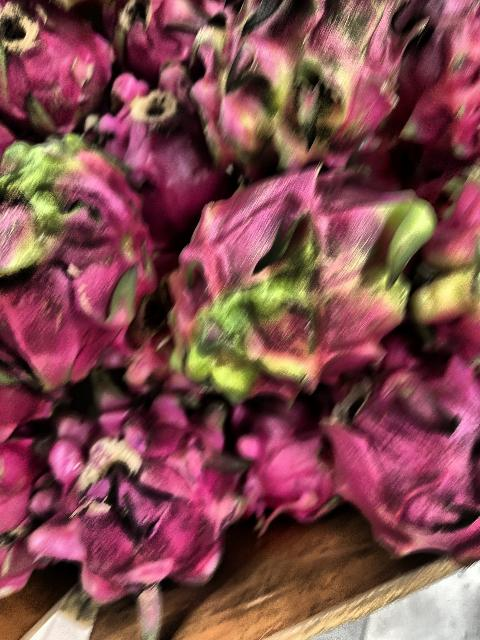buah-naga-belum-matang: (169, 179, 434, 401), (0, 128, 156, 380), (190, 0, 396, 162), (422, 172, 480, 350)
buah-naga-matang: (31, 391, 248, 595), (312, 347, 480, 563), (91, 73, 220, 217), (227, 394, 347, 536), (392, 0, 480, 156), (0, 11, 110, 131), (101, 1, 215, 74)
